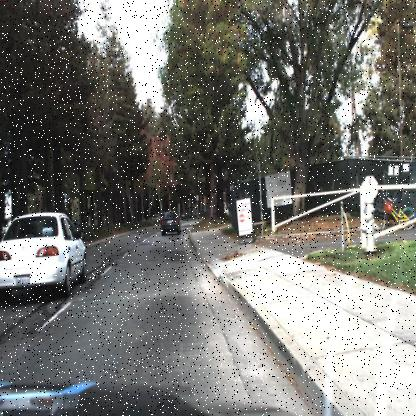car: (0, 207, 87, 303), (161, 210, 180, 236)
